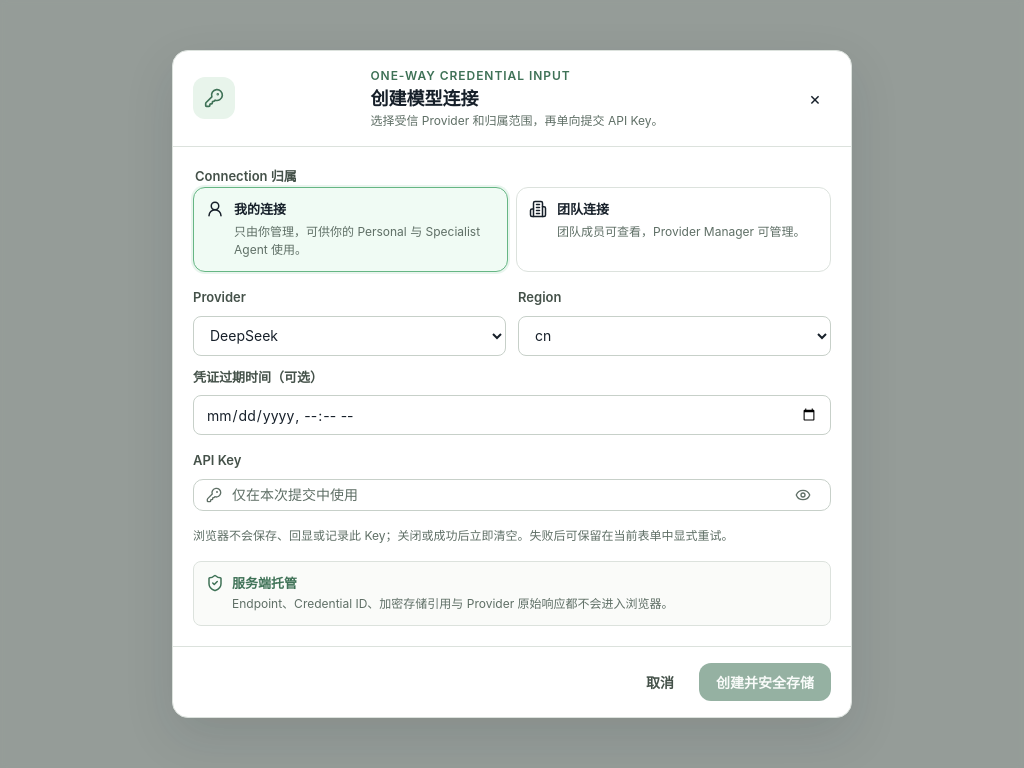
Test: ModelCredentialDialog › keeps Provider and Region selects interactive and follows the selected Provider
Expected: the dropdown named "Region" is enabled, x1=518 y1=316 x2=831 y2=356
Select "OpenAI" in the dropdown named "Provider": coordinates (350, 336) x1=193 y1=316 x2=506 y2=356
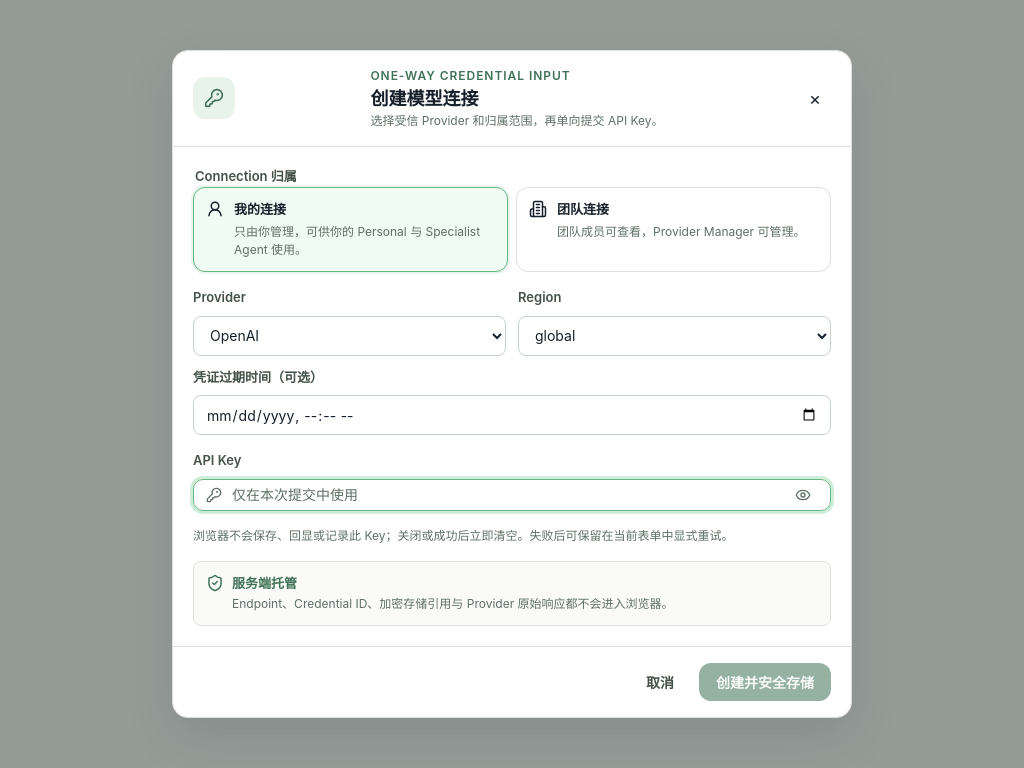
Expected: the dropdown named "Region" shows "global", x1=518 y1=316 x2=831 y2=356
